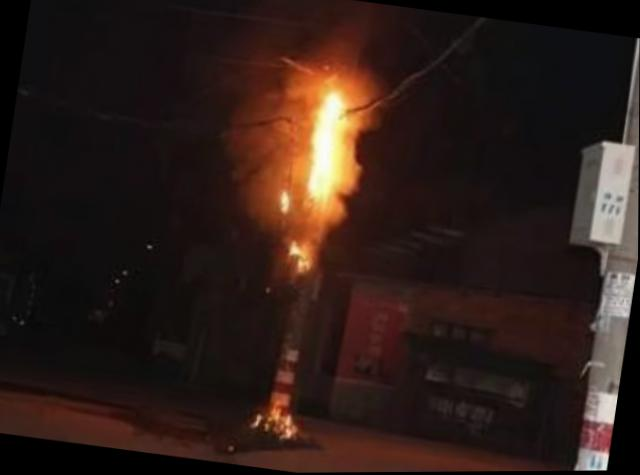fire: (271, 81, 358, 281)
